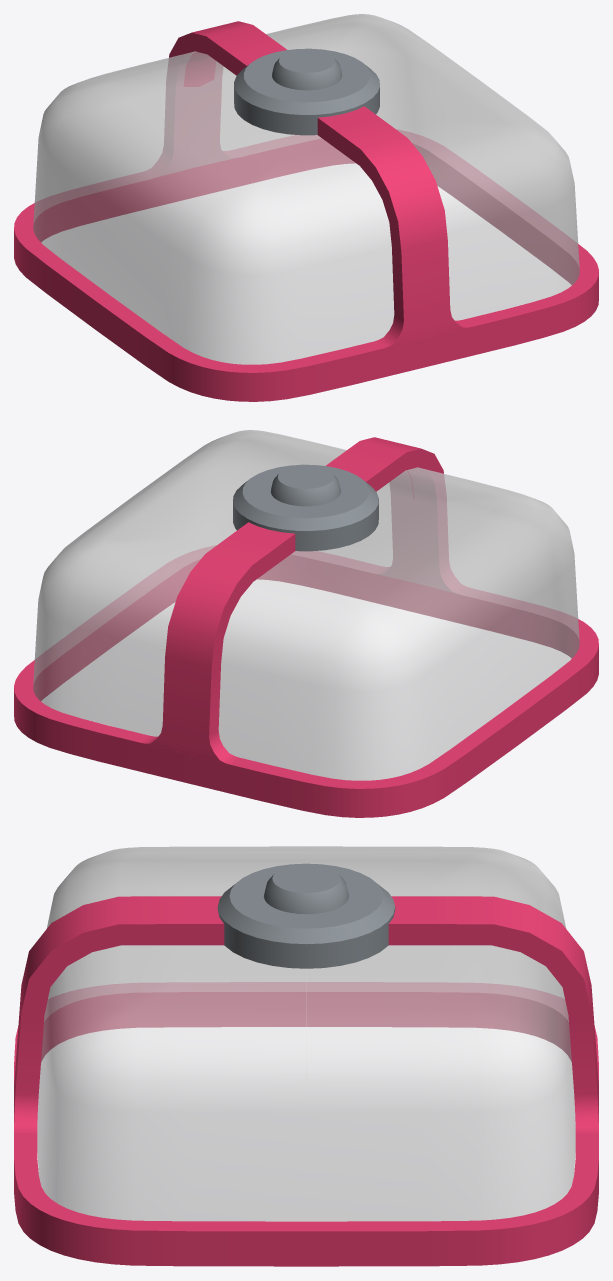
The model's file is Hop_l_1_T2.fbx.
The picture shows the model from 3 angles, top to bottom: view 1: azimuth 30°, elevation 25°; view 2: azimuth 150°, elevation 25°; view 3: azimuth 270°, elevation 25°; orthographic projection. The views are drawn at different scales.
Parts seen in each view (by area): view 1: Cube.172, Cube.173, Cube.174, Cylinder.194; view 2: Cube.172, Cube.173, Cube.174, Cylinder.194; view 3: Cube.172, Cube.173, Cube.174, Cylinder.194.
Part boxes in pixels (<box>): Cube.172: <box>33,14,579,364</box>; Cube.173: <box>14,130,598,401</box>; Cube.174: <box>143,21,471,348</box>; Cylinder.194: <box>234,48,379,135</box>; Cube.172: <box>33,430,579,780</box>; Cube.173: <box>14,546,598,817</box>; Cube.174: <box>141,437,469,764</box>; Cylinder.194: <box>233,464,378,551</box>; Cube.172: <box>37,846,575,1221</box>; Cube.173: <box>14,982,598,1266</box>; Cube.174: <box>14,896,598,1133</box>; Cylinder.194: <box>217,863,395,968</box>.
Size of the model in its own units: 152 by 75 by 151.
